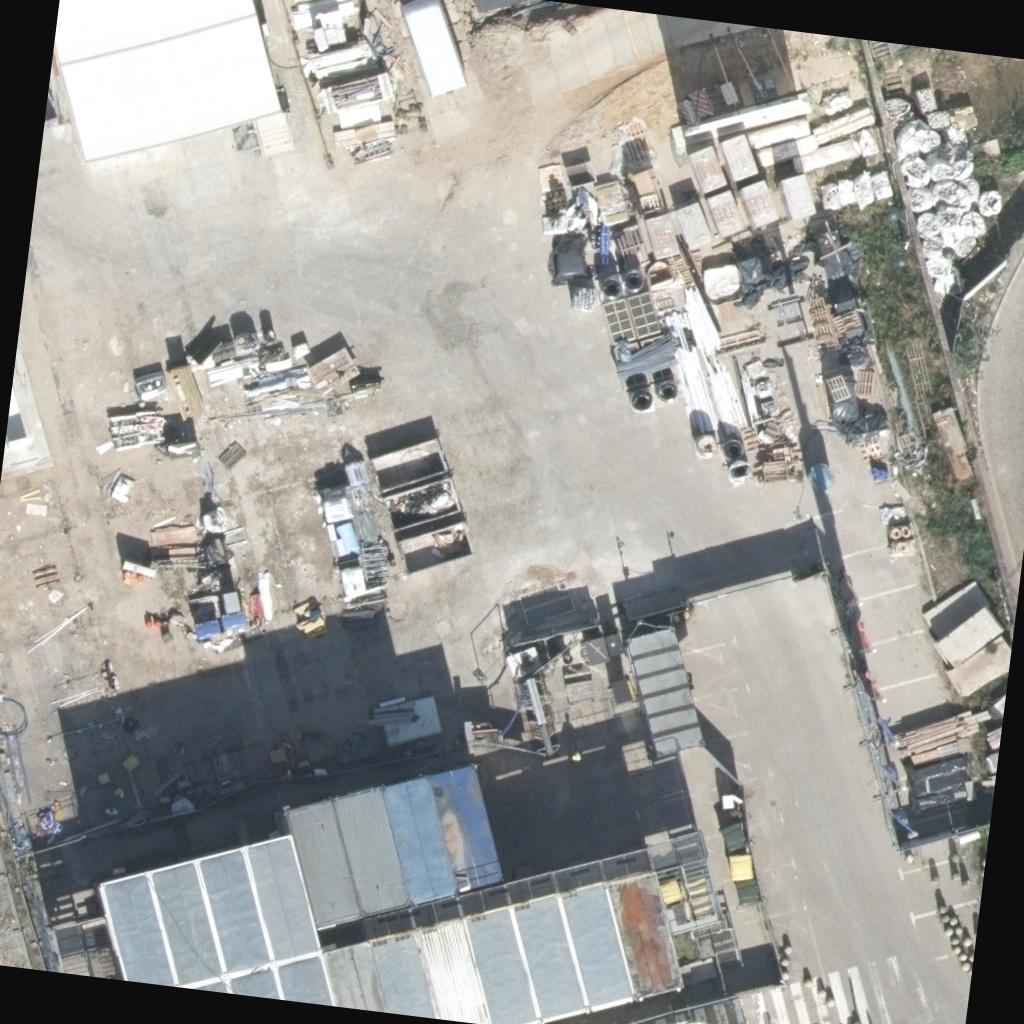samochod_osobowy: (380, 0, 476, 103)
